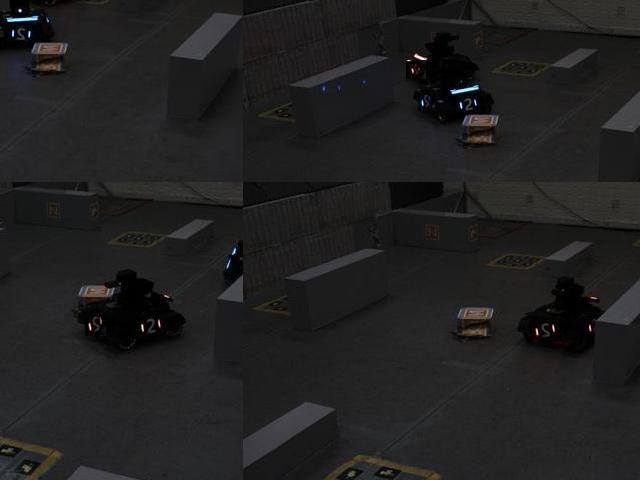armor: (136, 313, 166, 338), (7, 22, 39, 43), (533, 320, 559, 344), (85, 313, 107, 338), (453, 97, 481, 114), (406, 60, 427, 80), (418, 89, 436, 112)
